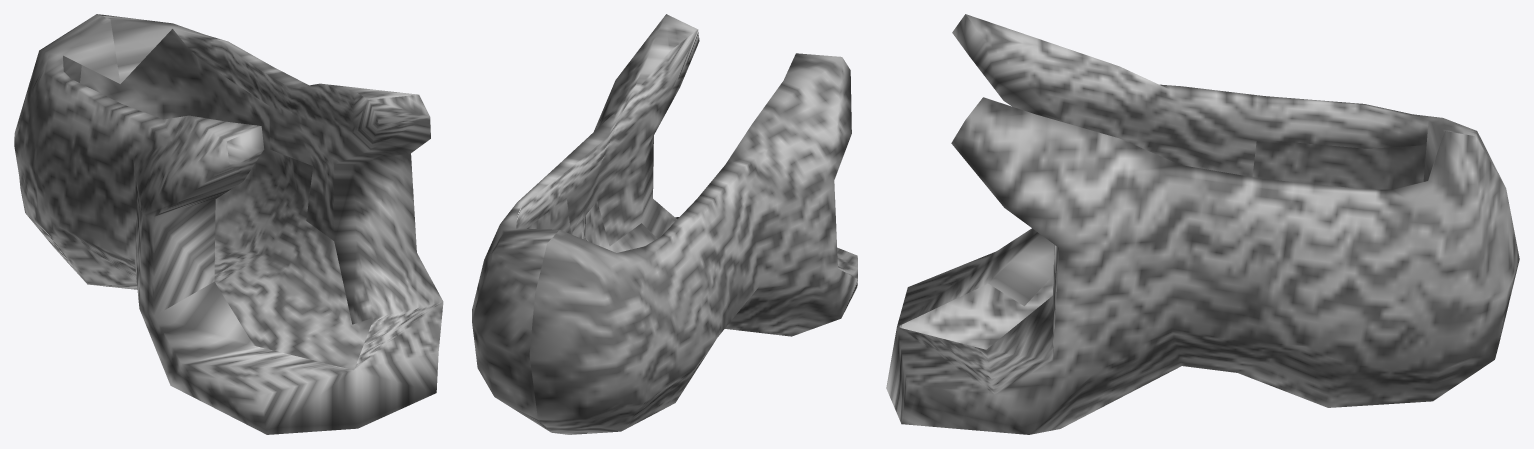
Rendered from Wig_Bob_Hair_HatLongCurly.fbx.
The picture shows the model from 3 angles, left to right: view 1: azimuth 30°, elevation 25°; view 2: azimuth 150°, elevation 25°; view 3: azimuth 270°, elevation 25°; orthographic projection. The views are drawn at different scales.
Parts seen in each view (by area): view 1: BoxOfJars003; view 2: BoxOfJars003; view 3: BoxOfJars003.
Boxes of the visible parts, x1=… form: BoxOfJars003: x1=14, y1=14, x2=443, y2=434; BoxOfJars003: x1=472, y1=14, x2=857, y2=434; BoxOfJars003: x1=886, y1=14, x2=1519, y2=434.
Size of the model in its own units: 14 by 14.76 by 25.83.
